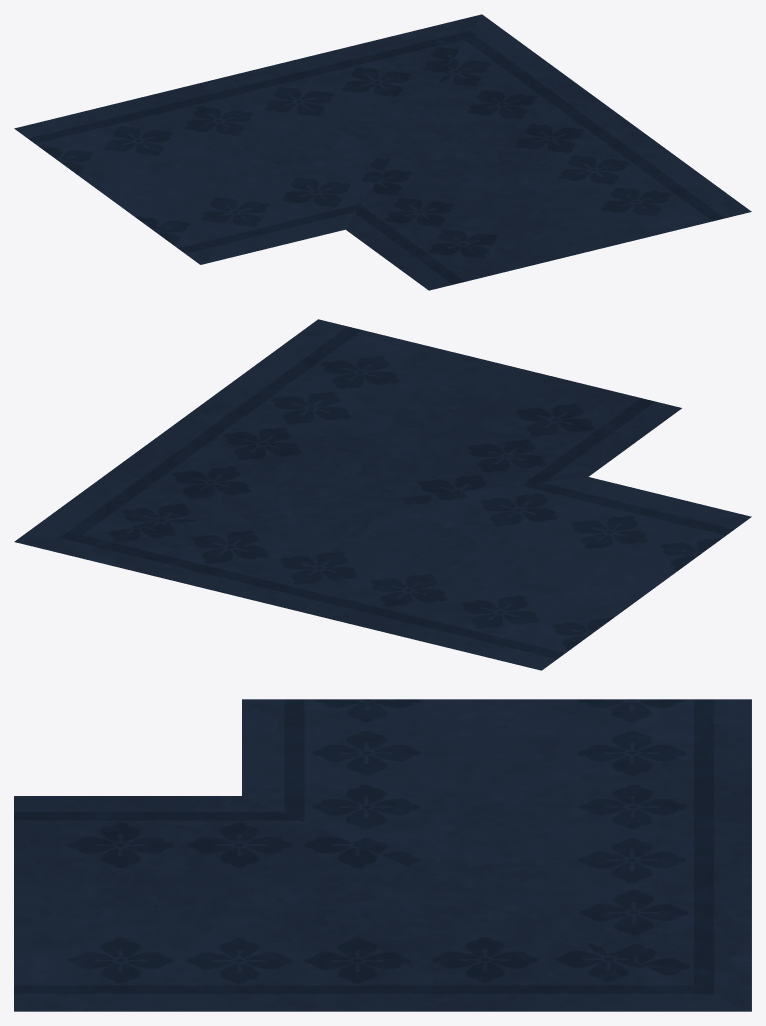
File: Carpet_Corner.fbx
3 views of the same model, one above another, from view 1: azimuth 30°, elevation 25°; view 2: azimuth 150°, elevation 25°; view 3: azimuth 270°, elevation 25° (orthographic). The views are drawn at different scales.
Visible parts, largest first — view 1: Carpet_Corner; view 2: Carpet_Corner; view 3: Carpet_Corner.
Part boxes in pixels (left/top/right/bottom): Carpet_Corner: left=14, top=14, right=751, bottom=290; Carpet_Corner: left=14, top=319, right=751, bottom=670; Carpet_Corner: left=14, top=699, right=751, bottom=1011.
Bounding box in the file's own units: 383 × 0 × 382.
1 material, 1 textured.
